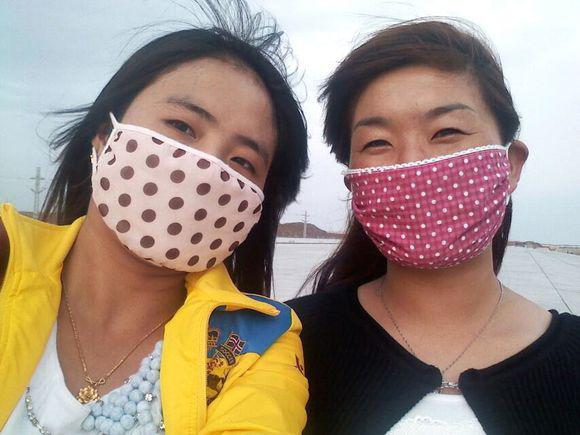OK: (110, 95, 278, 262), (349, 110, 508, 270)
